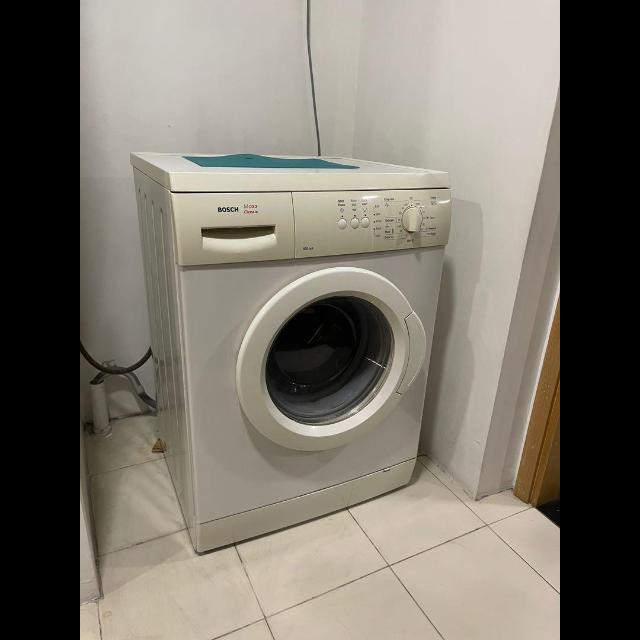Washing-Machine: (132, 152, 444, 528)
